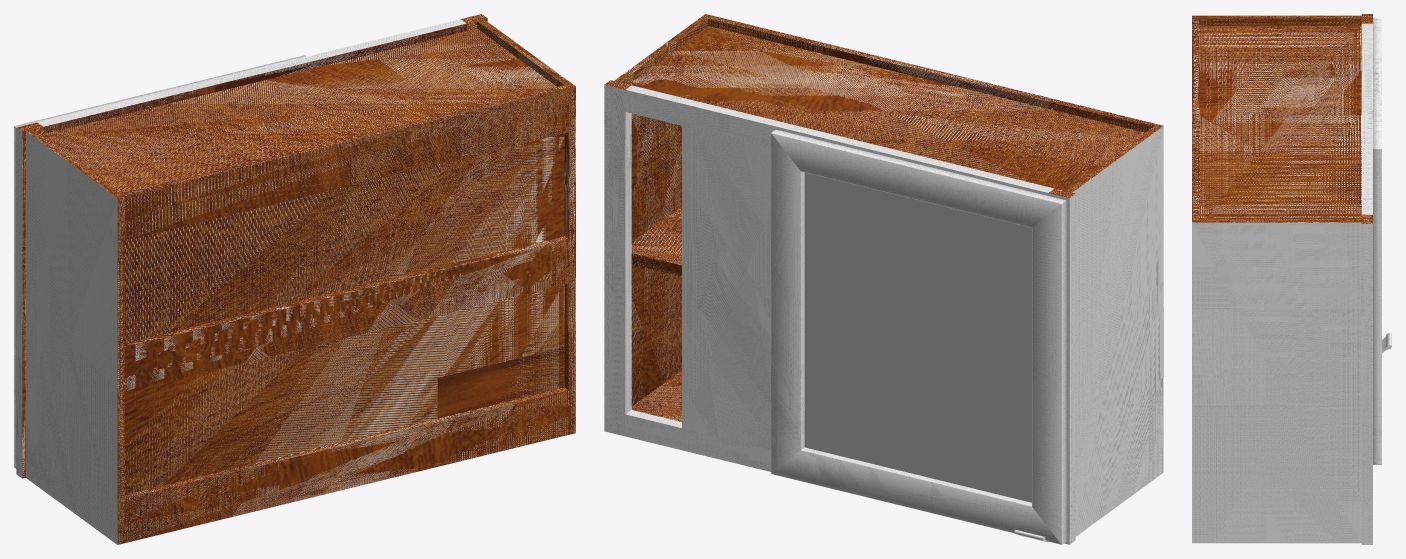
3 renders of one model, left to right at view 1: azimuth 30°, elevation 25°; view 2: azimuth 150°, elevation 25°; view 3: azimuth 270°, elevation 25°, orthographic. The views are drawn at different scales.
Parts seen in each view (by area): view 1: mesh6_mesh6-geometry, mesh3_mesh3-geometry, mesh8_mesh8-geometry, mesh2_mesh2-geometry, mesh4_mesh4-geometry, mesh24_mesh24-geometry, mesh7_mesh7-geometry, mesh9_mesh9-geometry, mesh16_mesh16-geometry; view 2: mesh13_mesh13-geometry, mesh2_mesh2-geometry, mesh8_mesh8-geometry, mesh11_mesh11-geometry, mesh7_mesh7-geometry, mesh4_mesh4-geometry, mesh22_mesh22-geometry, mesh16_mesh16-geometry, mesh10_mesh10-geometry, mesh15_mesh15-geometry, mesh17_mesh17-geometry, mesh3_mesh3-geometry (+6 smaller); view 3: mesh7_mesh7-geometry, mesh2_mesh2-geometry, mesh10_mesh10-geometry, mesh4_mesh4-geometry, mesh22_mesh22-geometry, mesh8_mesh8-geometry, mesh3_mesh3-geometry, mesh17_mesh17-geometry, mesh18_mesh18-geometry, mesh19_mesh19-geometry.
Part boxes in pixels (<box>): mesh6_mesh6-geometry: <box>124,133,564,494</box>; mesh3_mesh3-geometry: <box>121,85,568,542</box>; mesh8_mesh8-geometry: <box>26,129,124,544</box>; mesh2_mesh2-geometry: <box>41,28,556,193</box>; mesh4_mesh4-geometry: <box>38,19,466,133</box>; mesh24_mesh24-geometry: <box>437,347,564,418</box>; mesh7_mesh7-geometry: <box>477,19,575,434</box>; mesh9_mesh9-geometry: <box>16,122,43,478</box>; mesh16_mesh16-geometry: <box>14,159,16,435</box>; mesh13_mesh13-geometry: <box>806,173,1031,500</box>; mesh2_mesh2-geometry: <box>629,26,1144,421</box>; mesh8_mesh8-geometry: <box>1065,124,1163,536</box>; mesh11_mesh11-geometry: <box>682,126,771,449</box>; mesh7_mesh7-geometry: <box>614,14,711,406</box>; mesh4_mesh4-geometry: <box>625,85,1053,471</box>; mesh22_mesh22-geometry: <box>771,166,806,447</box>; mesh16_mesh16-geometry: <box>1032,230,1066,511</box>; mesh10_mesh10-geometry: <box>604,80,631,436</box>; mesh15_mesh15-geometry: <box>803,446,1031,533</box>; mesh17_mesh17-geometry: <box>803,137,1034,227</box>; mesh3_mesh3-geometry: <box>708,15,1156,132</box>; mesh7_mesh7-geometry: <box>1192,219,1361,543</box>; mesh2_mesh2-geometry: <box>1199,25,1361,219</box>; mesh10_mesh10-geometry: <box>1361,214,1372,544</box>; mesh4_mesh4-geometry: <box>1361,23,1372,214</box>; mesh22_mesh22-geometry: <box>1373,180,1381,433</box>; mesh8_mesh8-geometry: <box>1192,15,1361,25</box>; mesh3_mesh3-geometry: <box>1192,18,1199,219</box>; mesh17_mesh17-geometry: <box>1373,32,1381,134</box>; mesh18_mesh18-geometry: <box>1373,134,1381,179</box>; mesh19_mesh19-geometry: <box>1373,434,1381,464</box>.
Size of the model in its own units: 0.7741 by 0.5513 by 0.3111.
